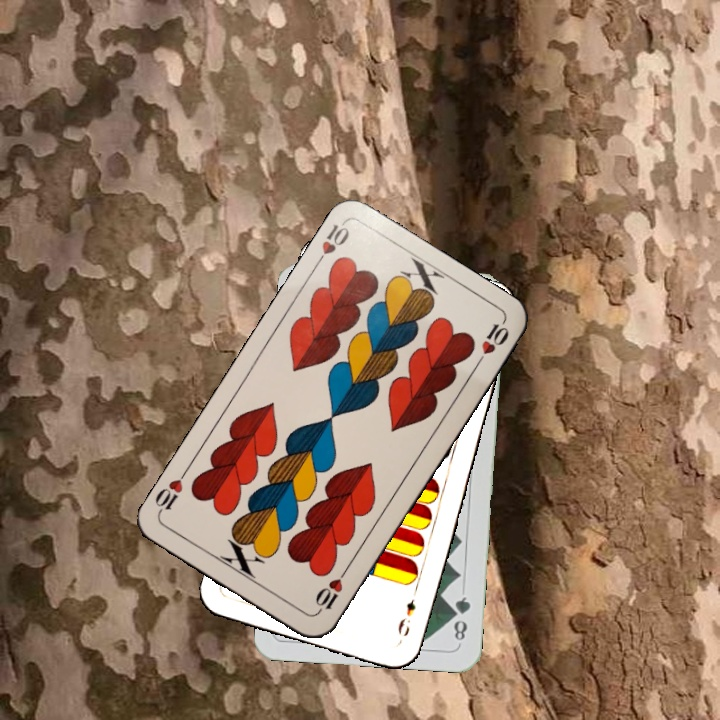E9: (393, 595, 418, 639)
G8: (448, 592, 473, 643)
H10: (310, 218, 352, 270), (311, 564, 351, 616)
